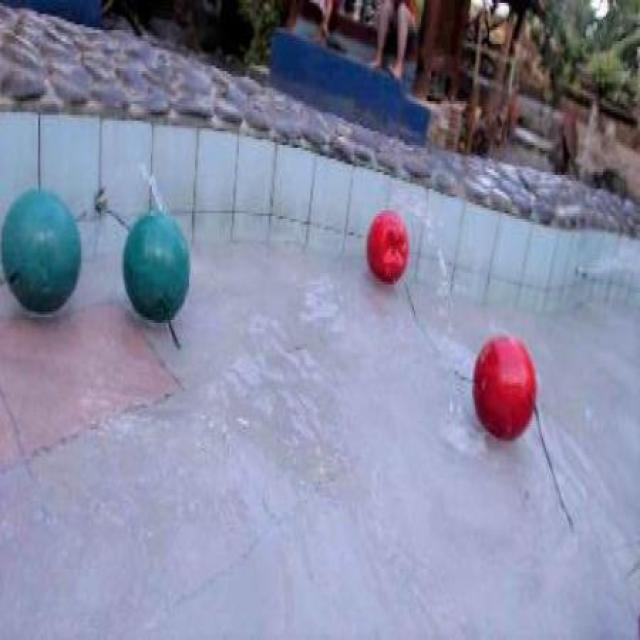buoy: (0, 188, 80, 315), (123, 210, 191, 320), (472, 334, 538, 443), (366, 212, 409, 286)
